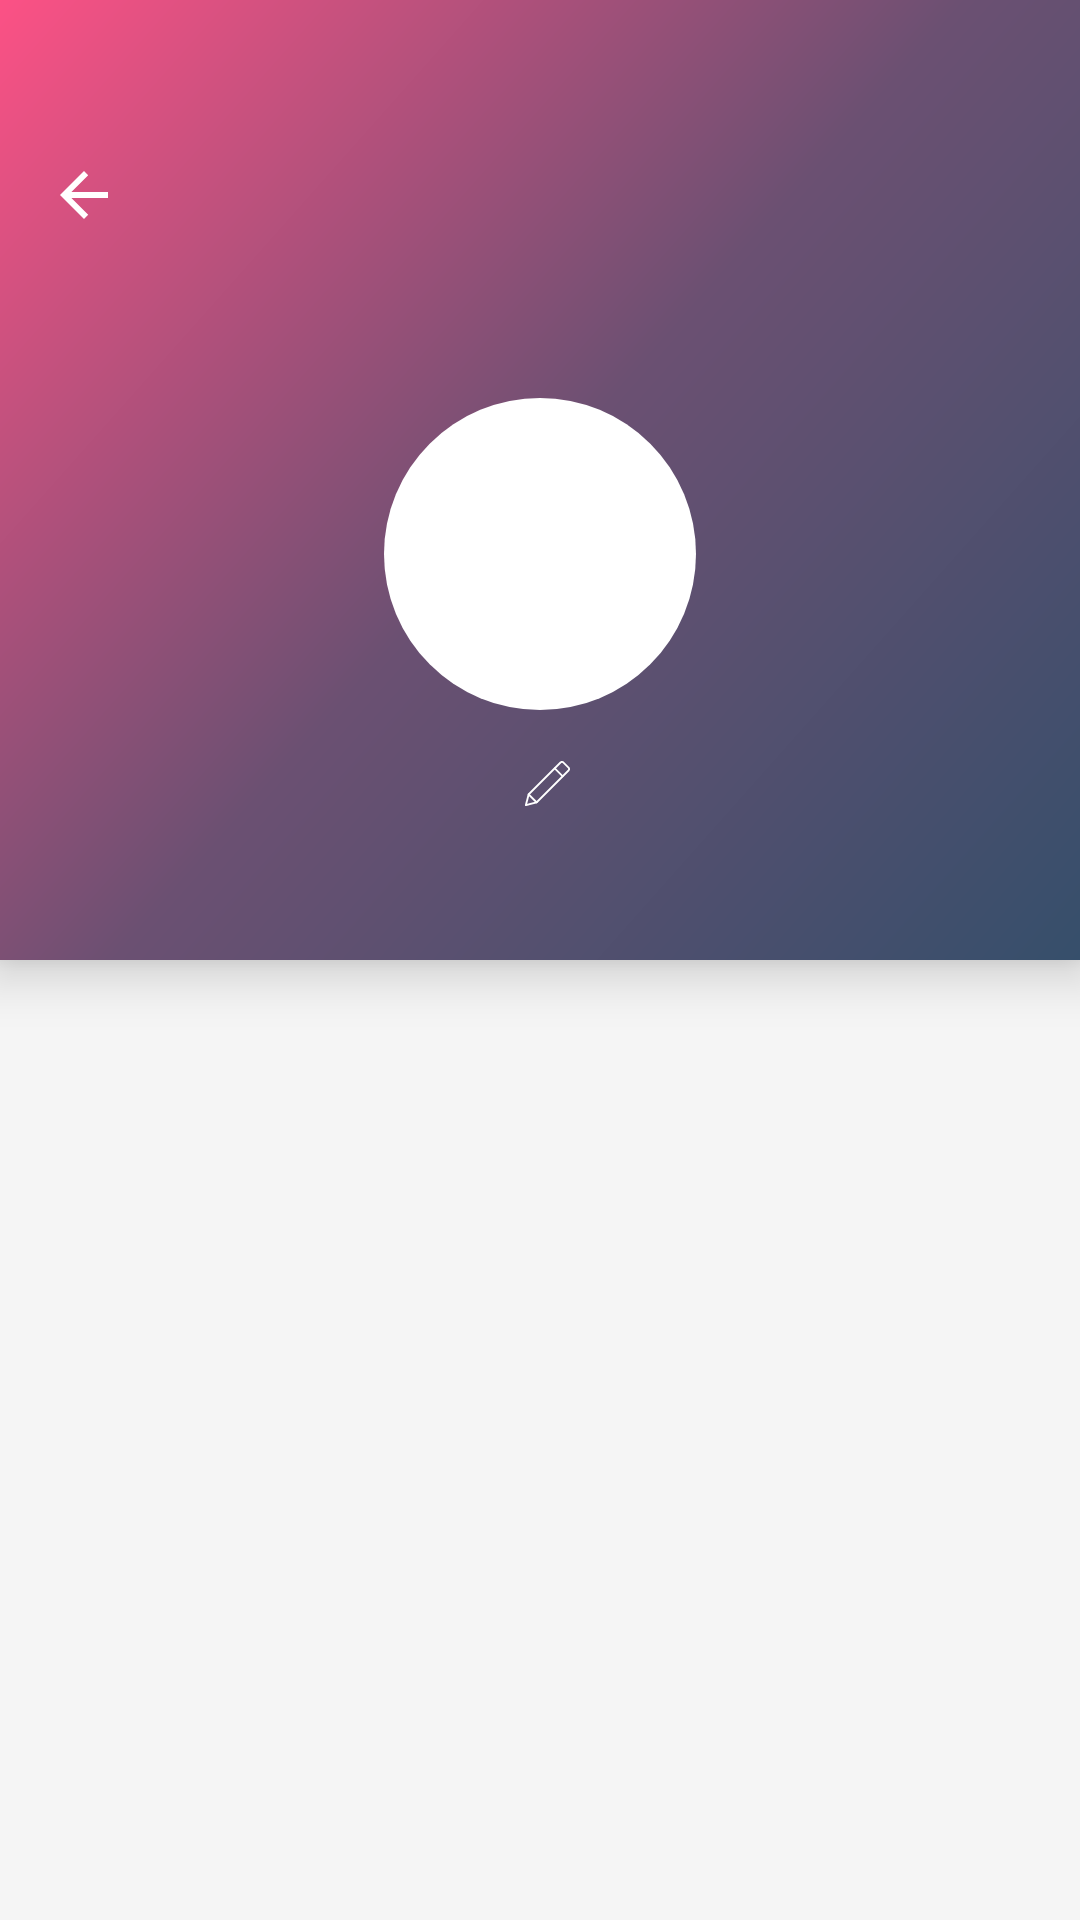

Screen size 1080px×1920px. Icon name, then its box in pixels as [left=x1, top=y1, right=x2, bottom=y2]:
edit: [left=525, top=761, right=570, bottom=806]
